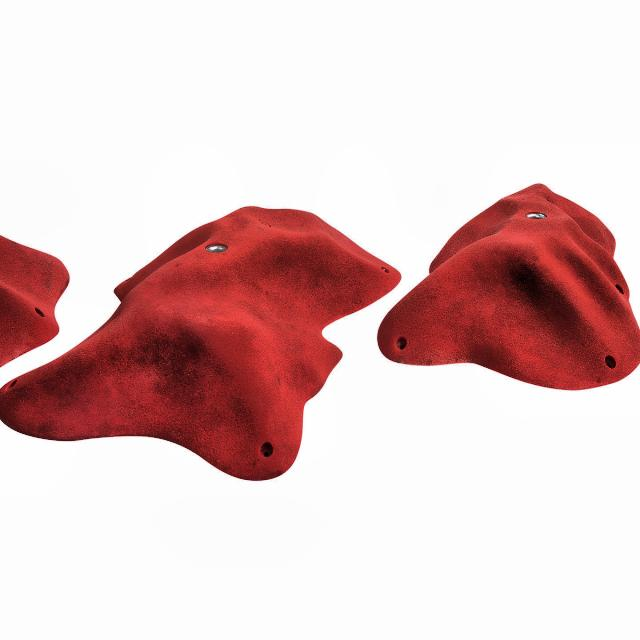Hold: (4, 192, 406, 499), (361, 170, 638, 403)
